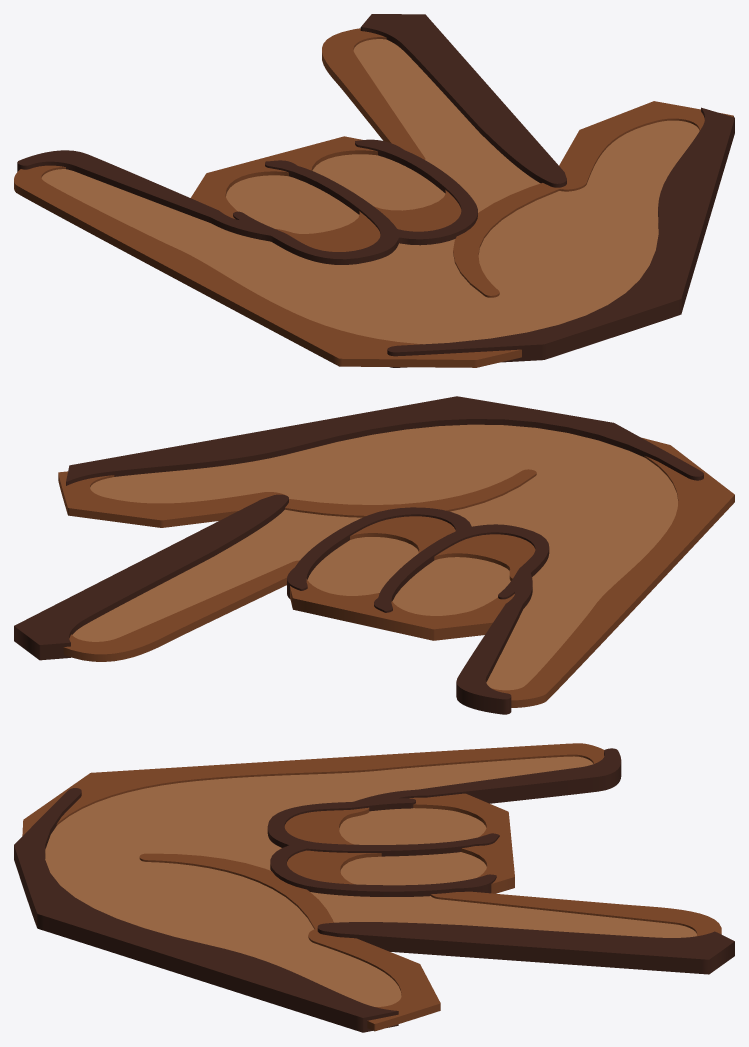
File: emoji_u1f91f_1f3fe.glb
3 renders of one model, top to bottom at view 1: azimuth 30°, elevation 25°; view 2: azimuth 150°, elevation 25°; view 3: azimuth 270°, elevation 25°, orthographic. The views are drawn at different scales.
Parts seen in each view (by area): view 1: emoji_u1f91f_1f3fe; view 2: emoji_u1f91f_1f3fe; view 3: emoji_u1f91f_1f3fe.
Boxes of the visible parts, <box> form: emoji_u1f91f_1f3fe: <box>14,14,734,367</box>; emoji_u1f91f_1f3fe: <box>14,396,734,714</box>; emoji_u1f91f_1f3fe: <box>14,743,734,1032</box>.
Size of the model in its own units: 0.0326 by 0.0008 by 0.0353.
